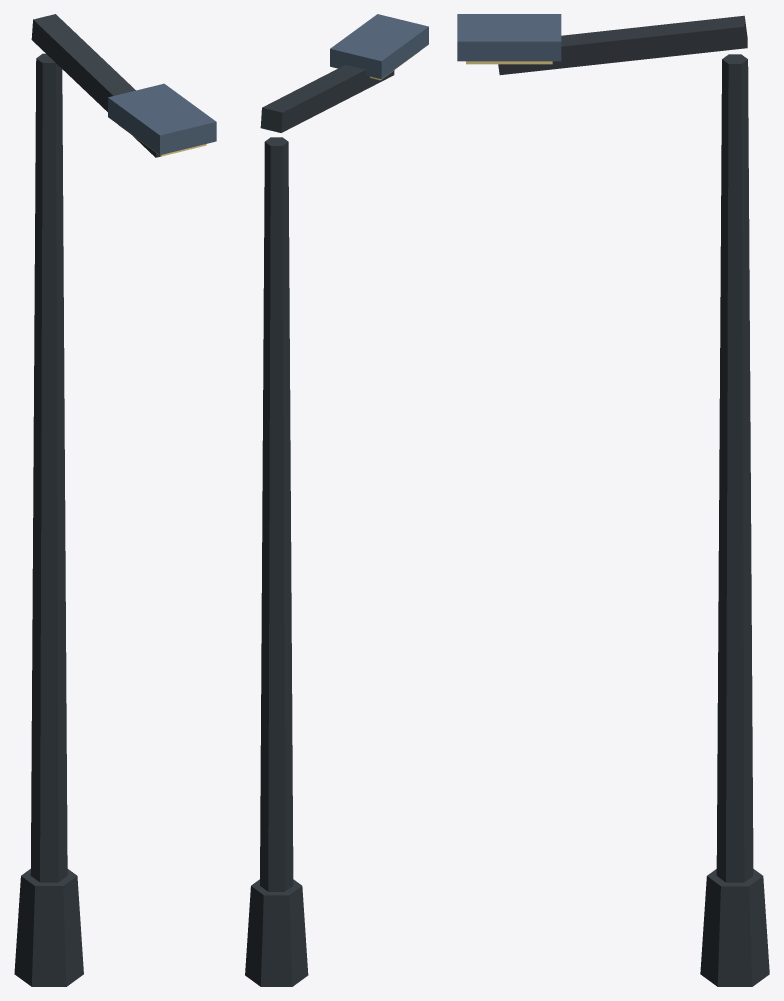
Rendered from street-lamp-modern-lod0.glb.
3 renders of one model, left to right at view 1: azimuth 30°, elevation 25°; view 2: azimuth 150°, elevation 25°; view 3: azimuth 270°, elevation 25°, orthographic. The views are drawn at different scales.
Visible parts, largest first — view 1: street-lamp-modern-lod0; view 2: street-lamp-modern-lod0; view 3: street-lamp-modern-lod0.
Part boxes in pixels (x1,y1,x2,y2): street-lamp-modern-lod0: [14, 14, 216, 986]; street-lamp-modern-lod0: [245, 14, 428, 986]; street-lamp-modern-lod0: [457, 14, 769, 986].
Size of the model in its own units: 0.3 by 4.84 by 1.44.
Materials: 1 (1 with a texture image).
